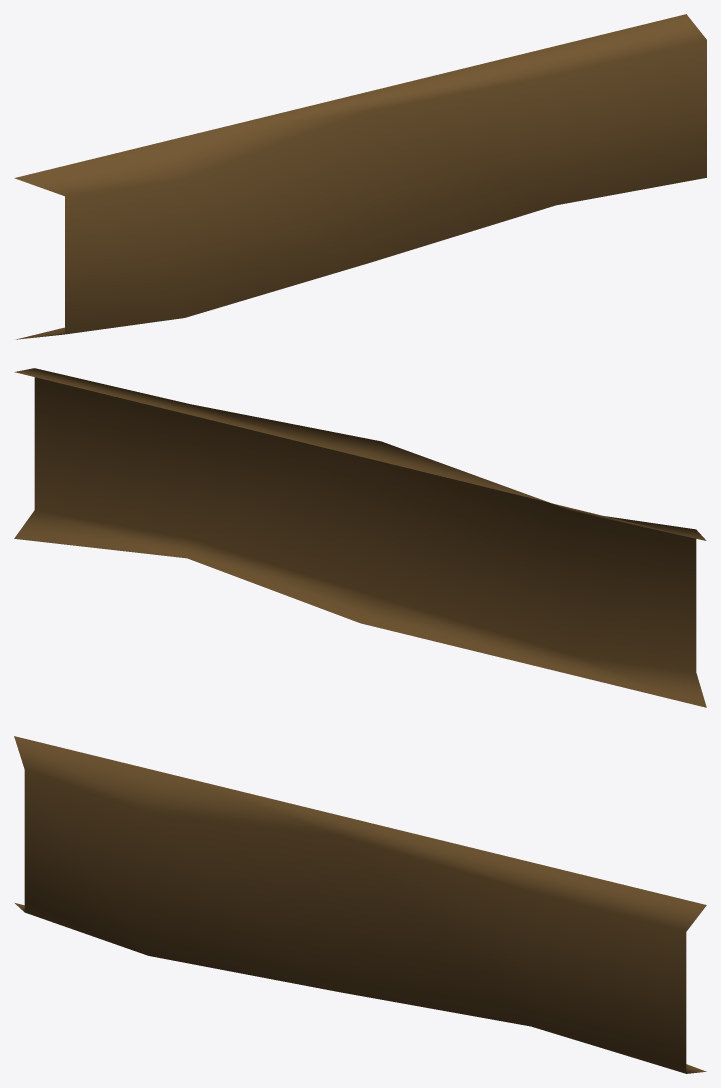
File: Trim_InnerCorner_L_Base.fbx
3 views of the same model, one above another, from view 1: azimuth 30°, elevation 25°; view 2: azimuth 150°, elevation 25°; view 3: azimuth 330°, elevation 25° (orthographic). The views are drawn at different scales.
Visible parts, largest first — view 1: Trim_InnerCorner_L_01; view 2: Trim_InnerCorner_L_01; view 3: Trim_InnerCorner_L_01.
Part boxes in pixels (<box>): Trim_InnerCorner_L_01: <box>14,14,706,339</box>; Trim_InnerCorner_L_01: <box>14,368,706,707</box>; Trim_InnerCorner_L_01: <box>14,736,706,1073</box>.
Bounding box in the file's own units: 100 × 22.99 × 5.22.
